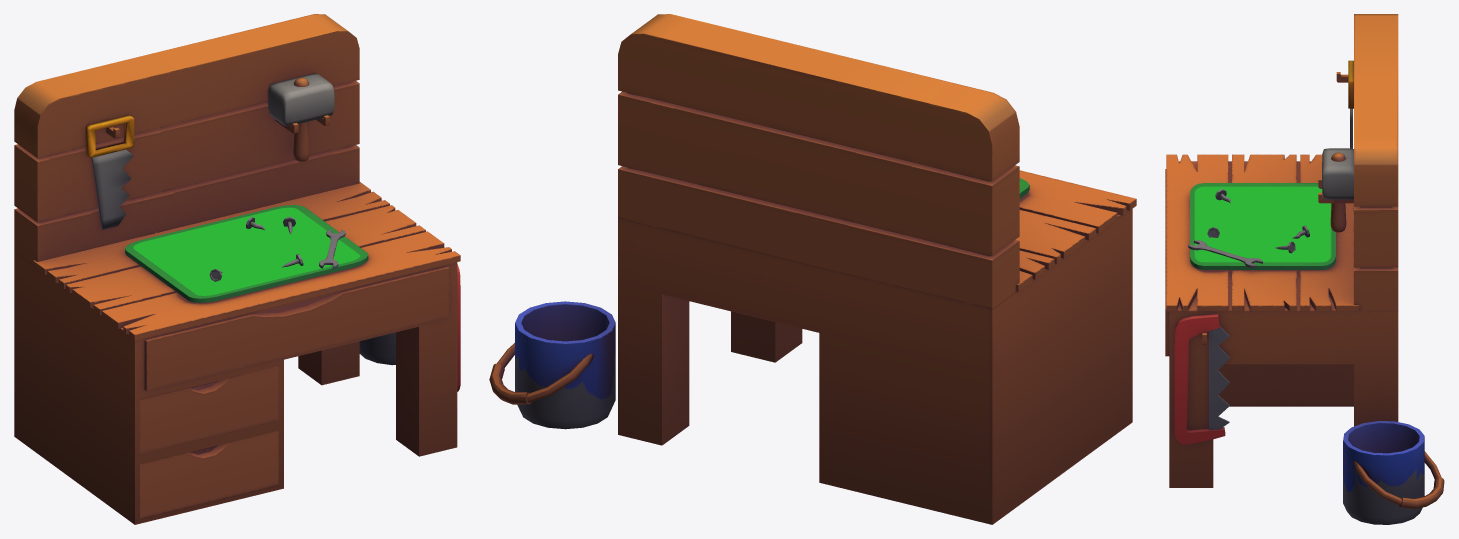
Rendered from Craft__table.fbx.
The picture shows the model from 3 angles, left to right: view 1: azimuth 30°, elevation 25°; view 2: azimuth 150°, elevation 25°; view 3: azimuth 270°, elevation 25°; orthographic projection. The views are drawn at different scales.
Parts seen in each view (by area): view 1: Cube; view 2: Cube; view 3: Cube.
Boxes of the visible parts, x1=… form: Cube: x1=14, y1=14, x2=460, y2=524; Cube: x1=489, y1=14, x2=1136, y2=524; Cube: x1=1165, y1=14, x2=1444, y2=524.
Bounding box in the file's own units: 162 × 126 × 95.88.
1 material, 1 textured.
